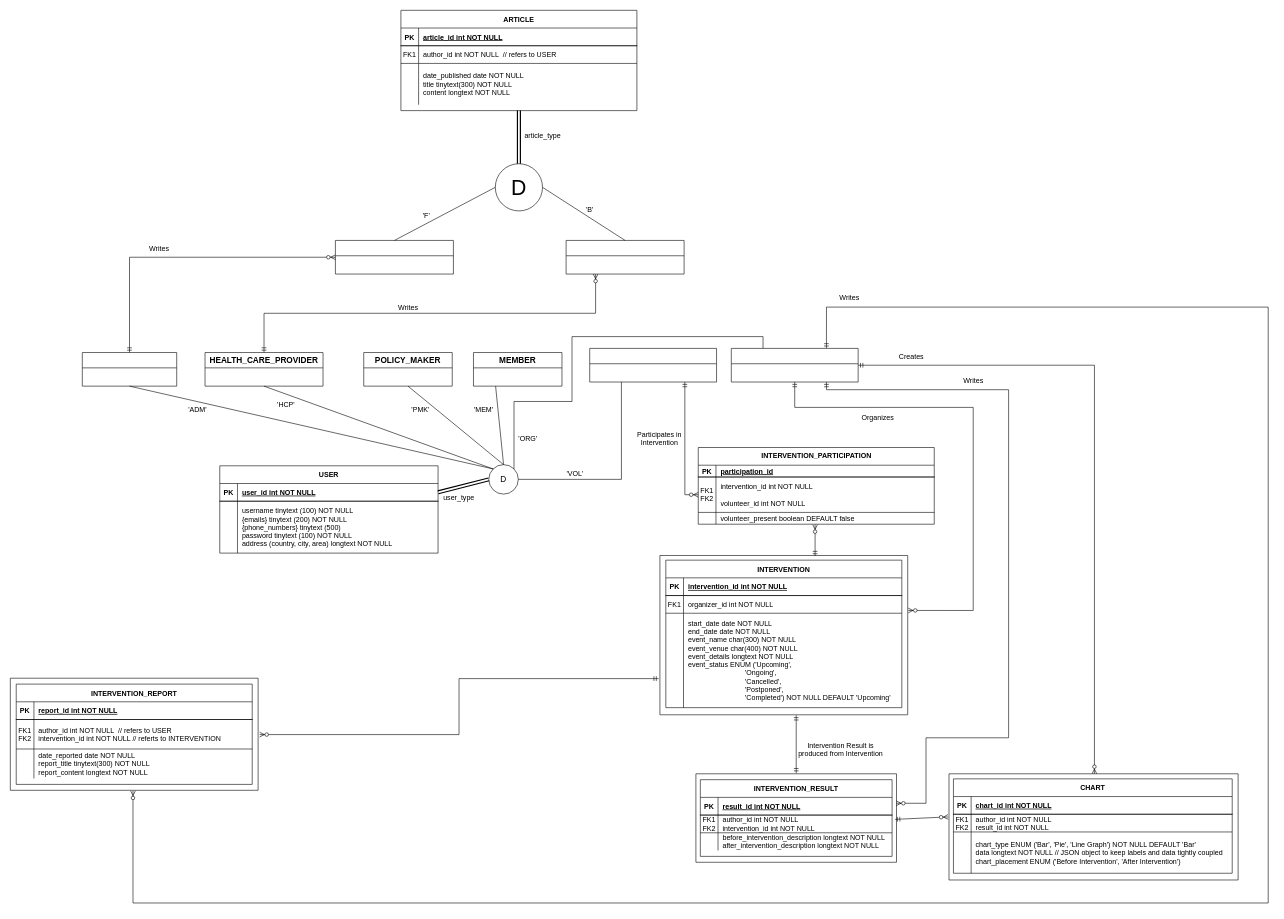
Image size: 1284x919. Some labels were removed from this diagram. Each missing label, with the centre of its shape:
"ADMINISTRATOR" goes at (129,369).
"BLOG_ARTICLE" goes at (625,257).
"FAQ_ARTICLE" goes at (394,257).
"INTERVENTION_ORGANIZER" goes at (794,365).
"INTERVENTION_VOLUNTEER" goes at (653,365).
